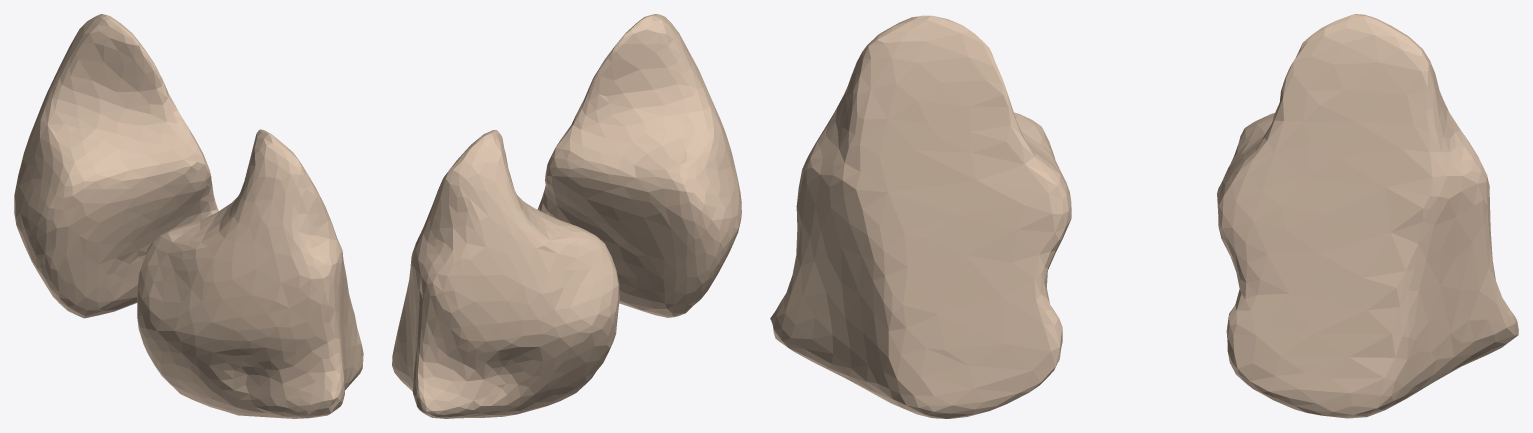
3 renders of one model, left to right at view 1: azimuth 30°, elevation 25°; view 2: azimuth 150°, elevation 25°; view 3: azimuth 270°, elevation 25°, orthographic. The views are drawn at different scales.
Parts seen in each view (by area): view 1: 146.obj; view 2: 146.obj; view 3: 146.obj.
Part boxes in pixels (x1=…): 146.obj: x1=14, y1=14, x2=363, y2=418; 146.obj: x1=392, y1=14, x2=741, y2=418; 146.obj: x1=770, y1=14, x2=1518, y2=418.
Bounding box in the file's own units: 1321 × 1798 × 3294.
